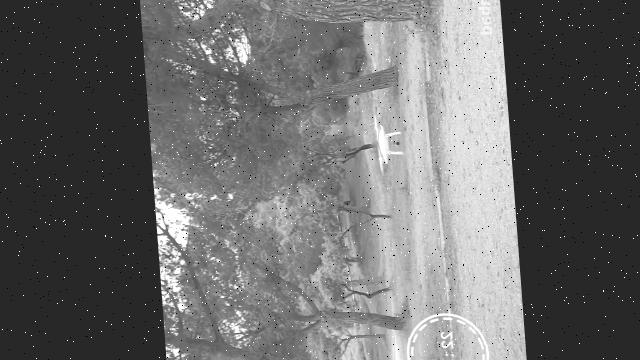drone: (372, 112, 403, 176)
